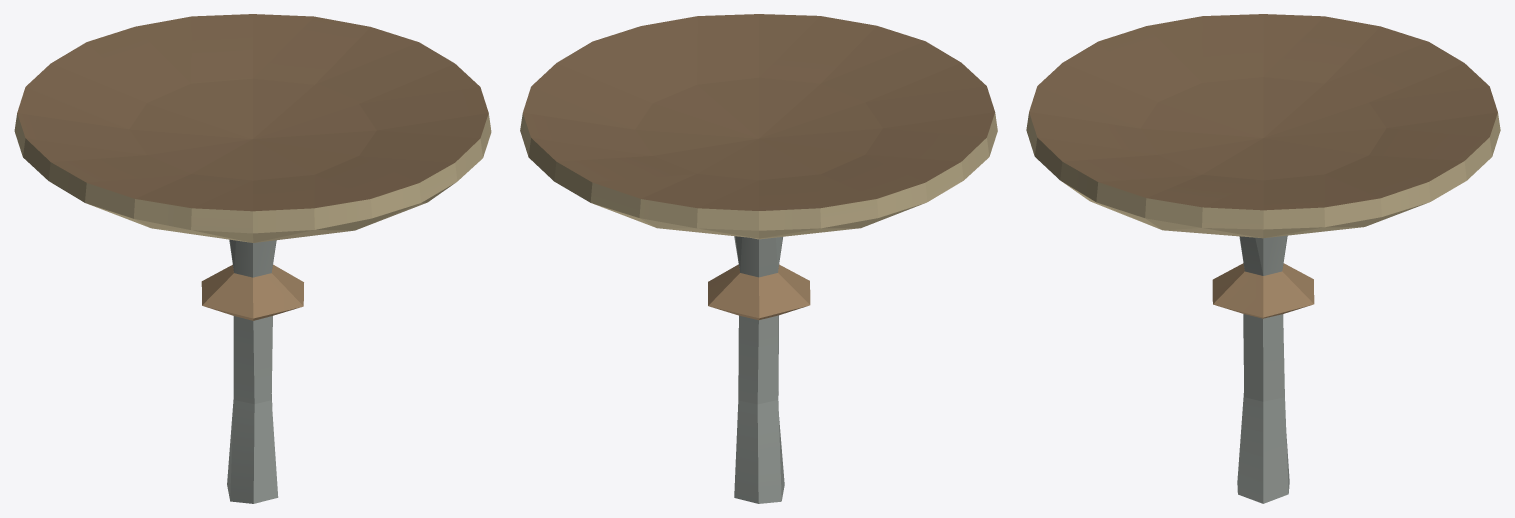
File: Macrolepiota_2.fbx
3 renders of one model, left to right at view 1: azimuth 30°, elevation 25°; view 2: azimuth 150°, elevation 25°; view 3: azimuth 270°, elevation 25°, orthographic.
Visible parts, largest first — view 1: Group13457; view 2: Group13457; view 3: Group13457.
Boxes of the visible parts, <box> form: Group13457: <box>14,14,491,503</box>; Group13457: <box>520,14,997,503</box>; Group13457: <box>1026,14,1500,503</box>.
Bounding box in the file's own units: 74.03 × 66.38 × 74.76.
